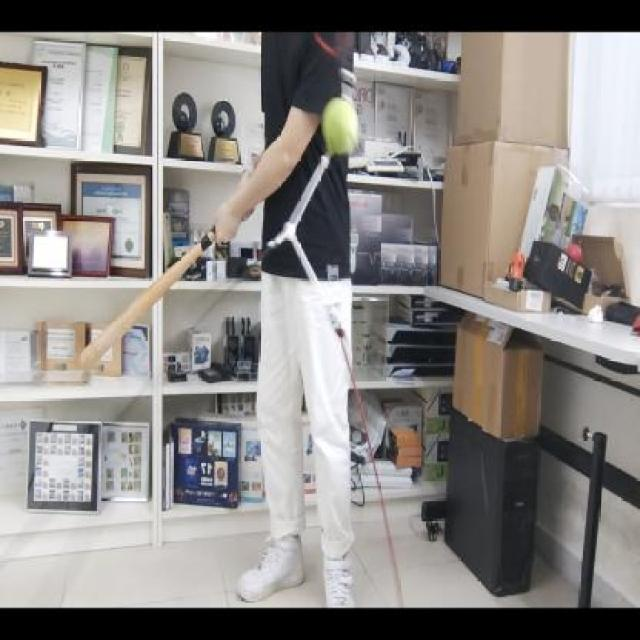baseball: (320, 95, 362, 154)
